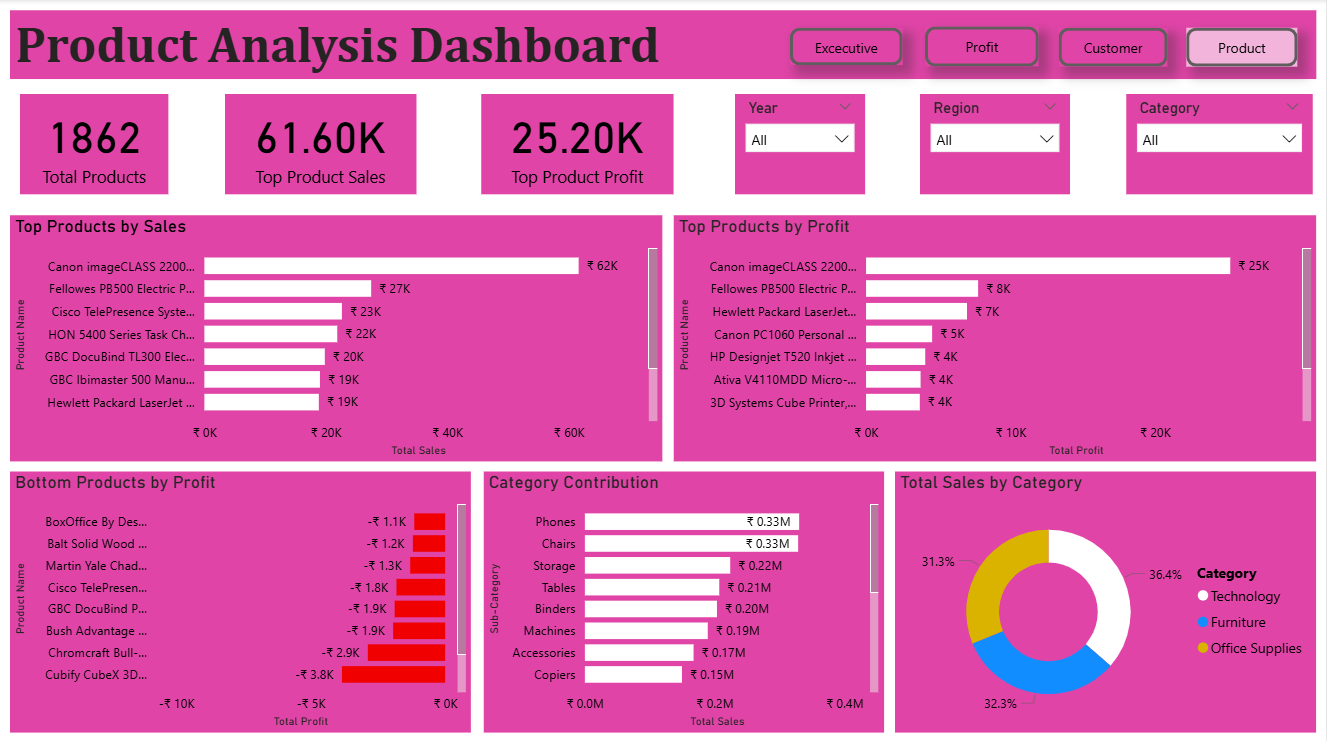

The dashboard page shown, as its layout file describes it:
{"tool":"powerbi","page":{"name":"Page 4","canvas":[1280,720],"ordinal":3},"visuals":[{"type":"textbox","box":[9.8,11,1260.7,66],"z":0},{"type":"card","fields":{"Values":["superstore_final.Total Products"]},"box":[19.3,91.7,143.6,96.5],"z":1000},{"type":"card","title":"Highest Product Sales","fields":{"Values":["superstore_final.Top Product Sales"]},"box":[217.2,91.7,184.6,96.5],"z":2000},{"type":"card","fields":{"Values":["superstore_final.Top Product Profit"]},"box":[464.5,91.7,185.8,96.5],"z":3000},{"type":"slicer","fields":{"Values":["superstore_final.Order Date.Variation.Date Hierarchy.Year"]},"box":[709.4,91.7,125.5,96.5],"z":4000},{"type":"slicer","fields":{"Values":["superstore_final.Region"]},"box":[887.9,91.7,144.8,96.5],"z":5000},{"type":"slicer","fields":{"Values":["superstore_final.Category"]},"box":[1087,91.7,179.8,96.5],"z":6000},{"type":"clusteredBarChart","title":"Top Products by Sales","fields":{"Category":["superstore_final.Product Name"],"Y":["superstore_final.Total Sales"]},"box":[9.7,208.7,629.8,237.7],"z":7000},{"type":"clusteredBarChart","title":"Top Products by Profit","fields":{"Category":["superstore_final.Product Name"],"Y":["superstore_final.Total Profit"]},"box":[650.3,208.7,620.1,237.7],"z":8000},{"type":"clusteredBarChart","title":"Bottom Products by Profit","fields":{"Category":["superstore_final.Product Name"],"Y":["superstore_final.Total Profit"]},"box":[9.7,456,445.2,252.1],"z":9000},{"type":"donutChart","fields":{"Category":["superstore_final.Category"],"Y":["superstore_final.Total Sales"]},"box":[863.8,456,406.6,252.1],"z":10000},{"type":"clusteredBarChart","title":"Category Contribution","fields":{"Category":["superstore_final.Sub-Category"],"Y":["superstore_final.Total Sales"]},"box":[466.9,456,386.1,252.1],"z":11000},{"type":"actionButton","box":[1144.9,28.2,107.4,37.4],"z":11001},{"type":"actionButton","box":[892.8,27,109.8,38.6],"z":11002},{"type":"actionButton","box":[1021.9,28.2,105,37.4],"z":11003},{"type":"actionButton","box":[762.5,28.2,108.6,36.2],"z":11004}]}

Visuals, with their boxes in screenshot pixels (x1, y1, x2, y2), scaled from the page's 1280x720 canvas onto the 1327x741 screenshot:
textbox: (10, 11, 1317, 79)
card - superstore_final.Total Products: (20, 94, 169, 194)
"Highest Product Sales" card: (225, 94, 417, 194)
card - superstore_final.Top Product Profit: (482, 94, 674, 194)
slicer - superstore_final.Order Date.Variation.Date Hierarchy.Year: (735, 94, 866, 194)
slicer - superstore_final.Region: (921, 94, 1071, 194)
slicer - superstore_final.Category: (1127, 94, 1313, 194)
"Top Products by Sales" clusteredBarChart: (10, 215, 663, 459)
"Top Products by Profit" clusteredBarChart: (674, 215, 1317, 459)
"Bottom Products by Profit" clusteredBarChart: (10, 469, 472, 729)
donutChart - superstore_final.Category x superstore_final.Total Sales: (896, 469, 1317, 729)
"Category Contribution" clusteredBarChart: (484, 469, 884, 729)
actionButton: (1187, 29, 1298, 68)
actionButton: (926, 28, 1039, 68)
actionButton: (1059, 29, 1168, 68)
actionButton: (790, 29, 903, 66)
